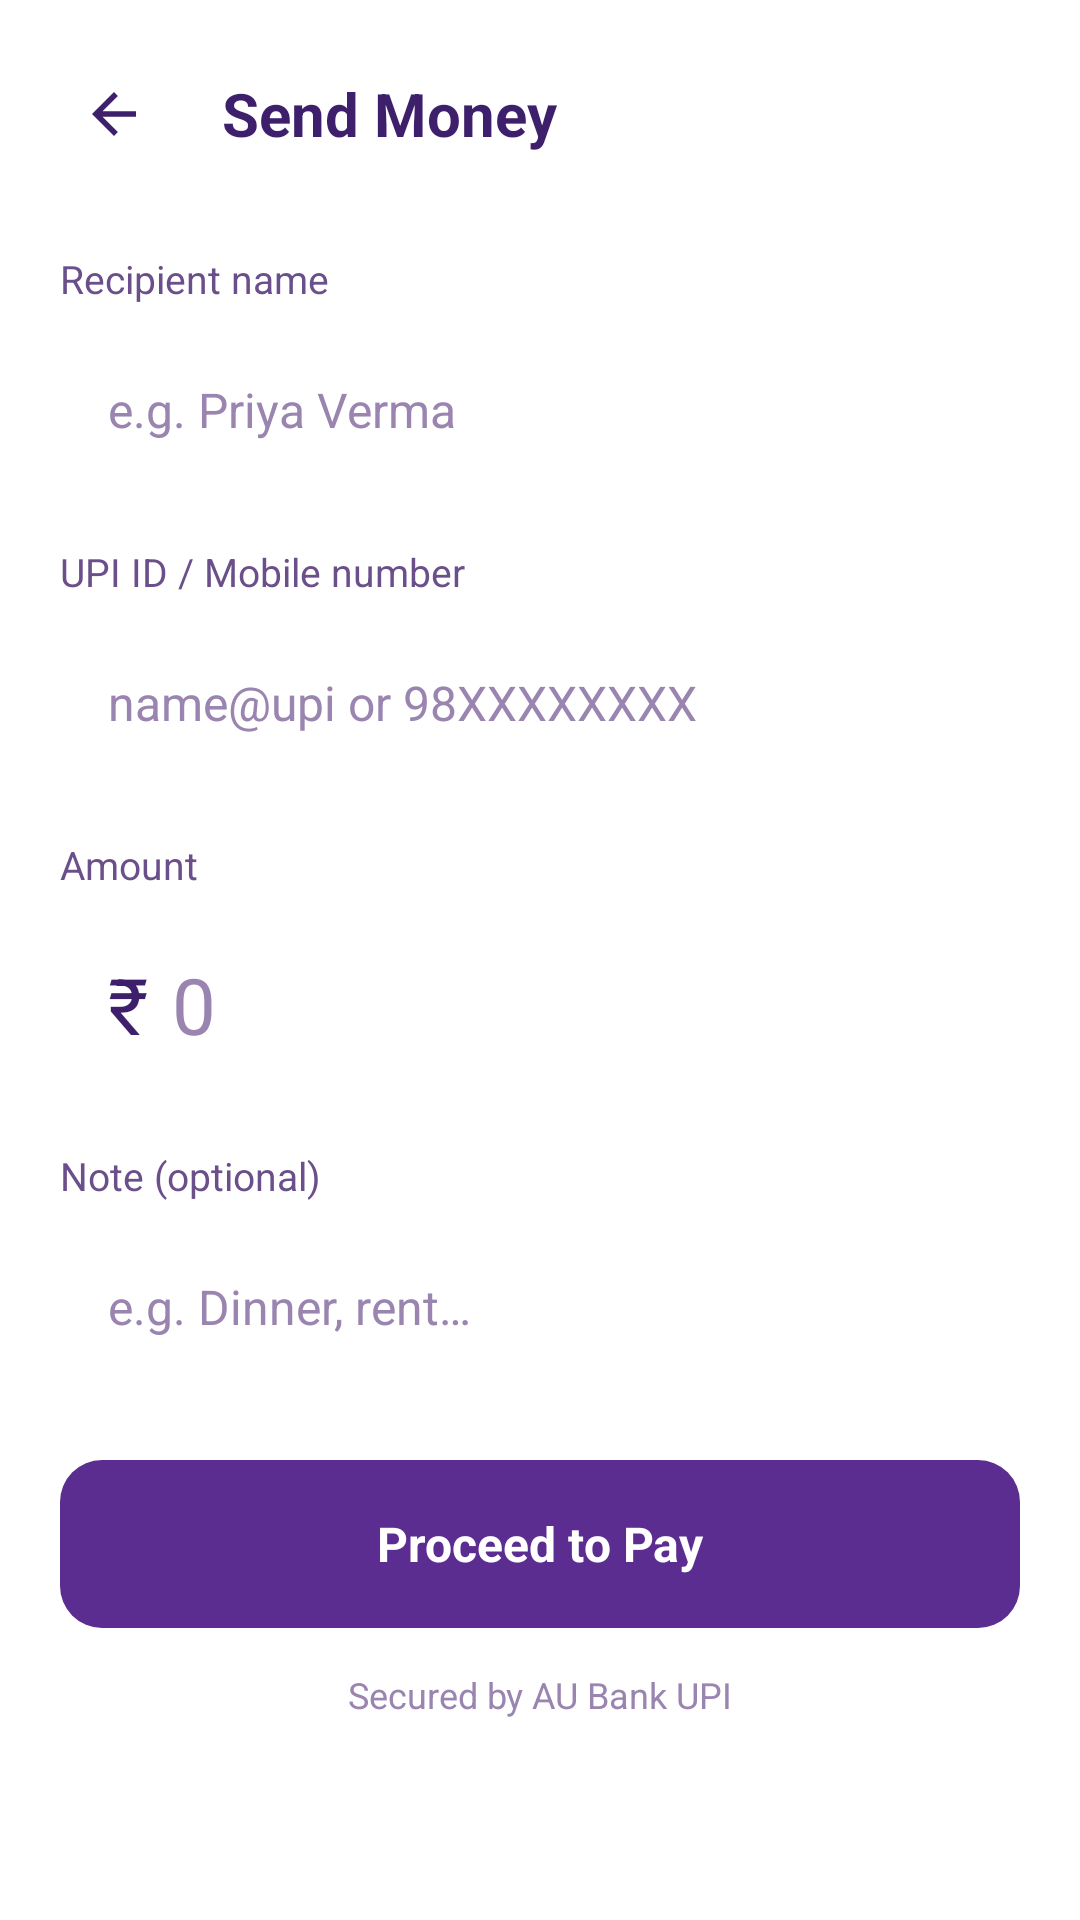

Screen size 1080px×1920px. Icon name, then its center in pixels as (x=x, y=y):
back: (x=114, y=114)
